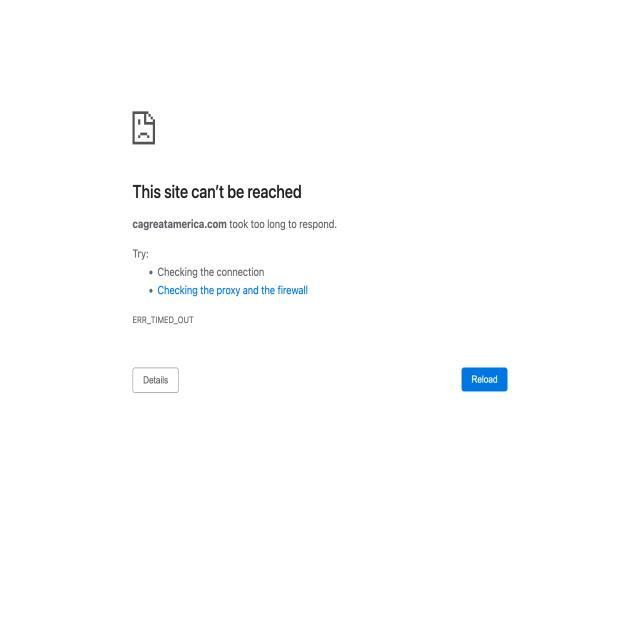button: (129, 364, 181, 396), (461, 364, 508, 396)
link: (154, 281, 312, 296)
text: (125, 175, 343, 299)
